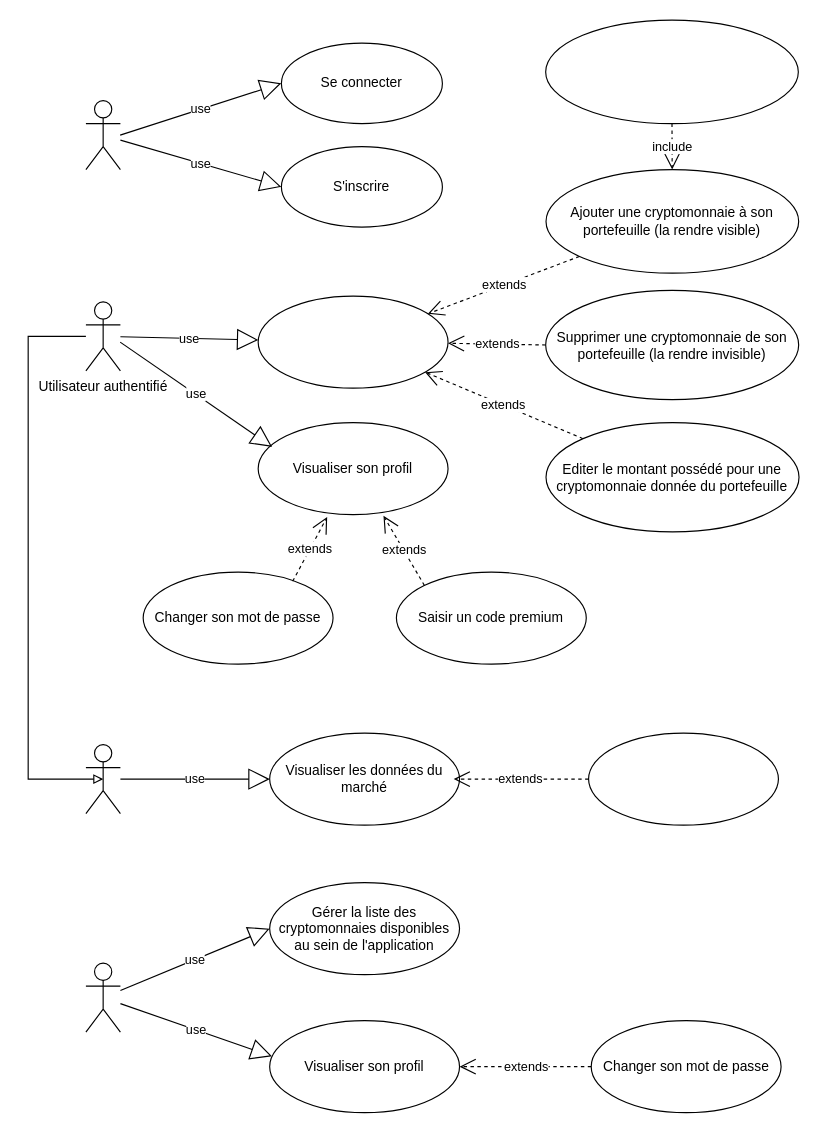
This 820x1133 diagram has some shape labels left out. Here are the shapes that lost their labels. From the top down, the centre of each, then its label:
pixel 671 71: Saisir le montant possédé pour une cryptomonnaie venant d'être ajoutée
pixel 102 134: Utilisateur non authentifié
pixel 352 341: Visualiser son portefeuille
pixel 102 778: Utilisateur premium authentifié
pixel 682 778: Visualiser les données d'une cryptomonnaie donnée
pixel 102 997: Administrateur
